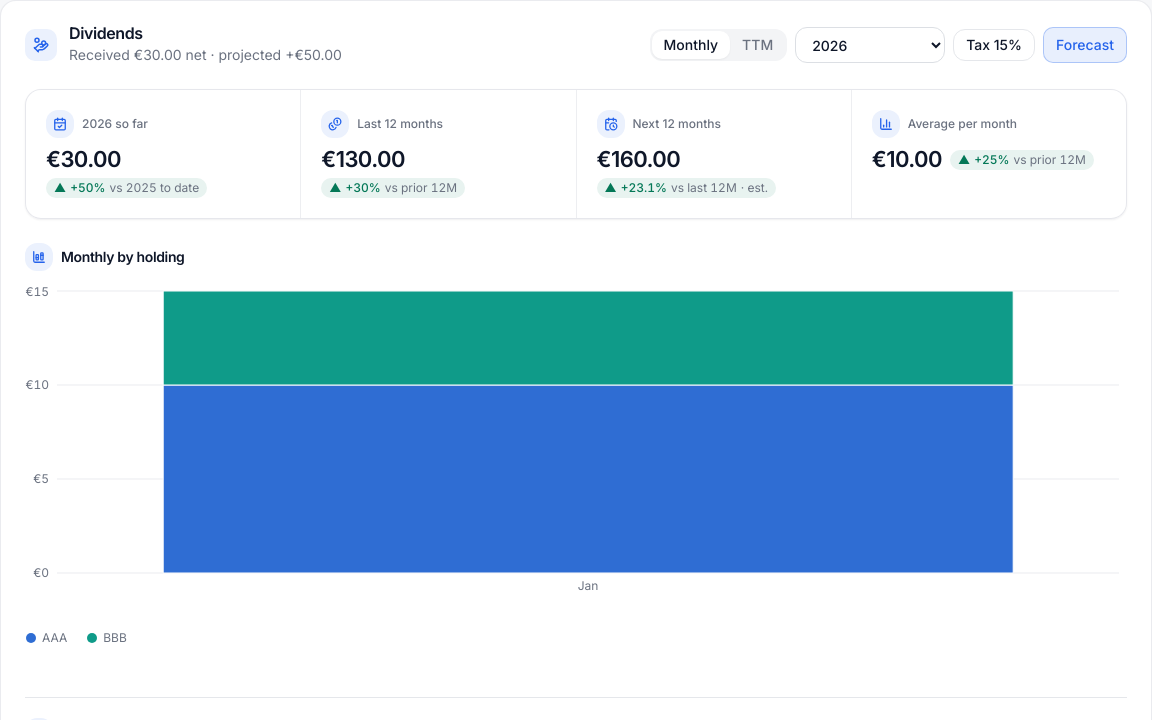
The dividend legend › lets go of a pin when the range no longer contains that holding
Expected: the text "Received €30.00 net · projected +€50.00" is shown, [69, 46, 342, 63]
Click the button "AAA" at (47, 638), box [17, 626, 76, 648]
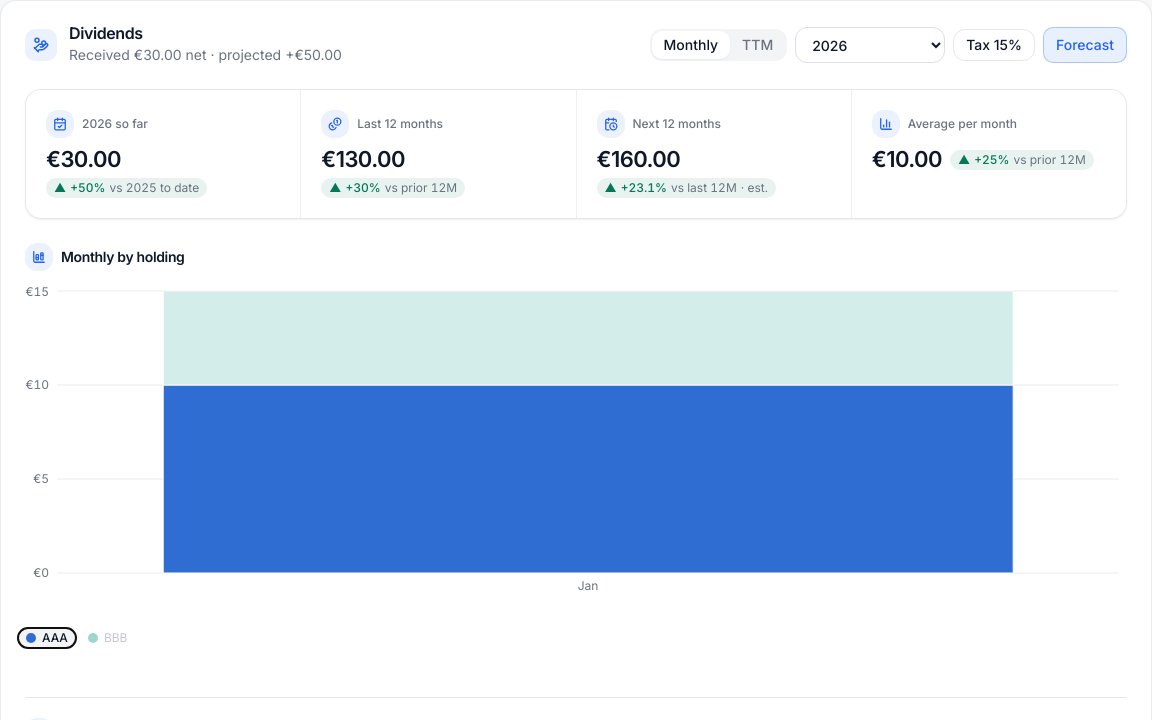
Expected: the button "AAA" is pressed, [17, 626, 77, 648]
Select "Last 24 months" in the dropdown named "Dividend period" at (870, 45), box [795, 27, 945, 63]
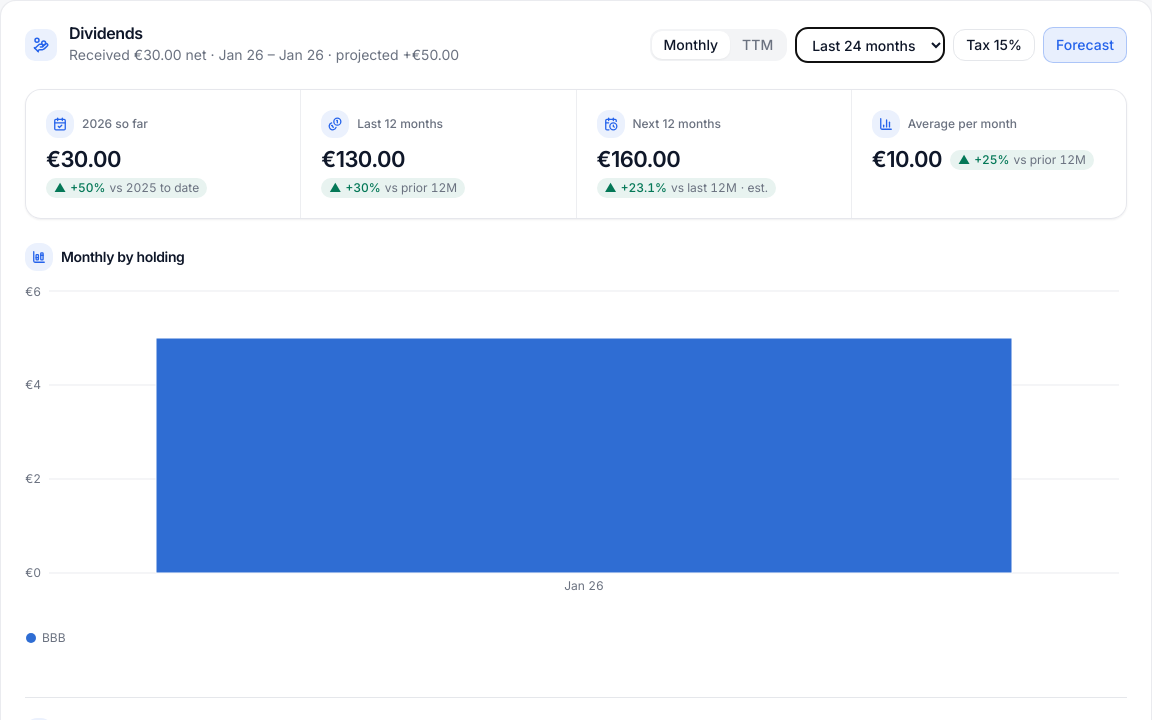
Expected: the button "AAA" is gone
